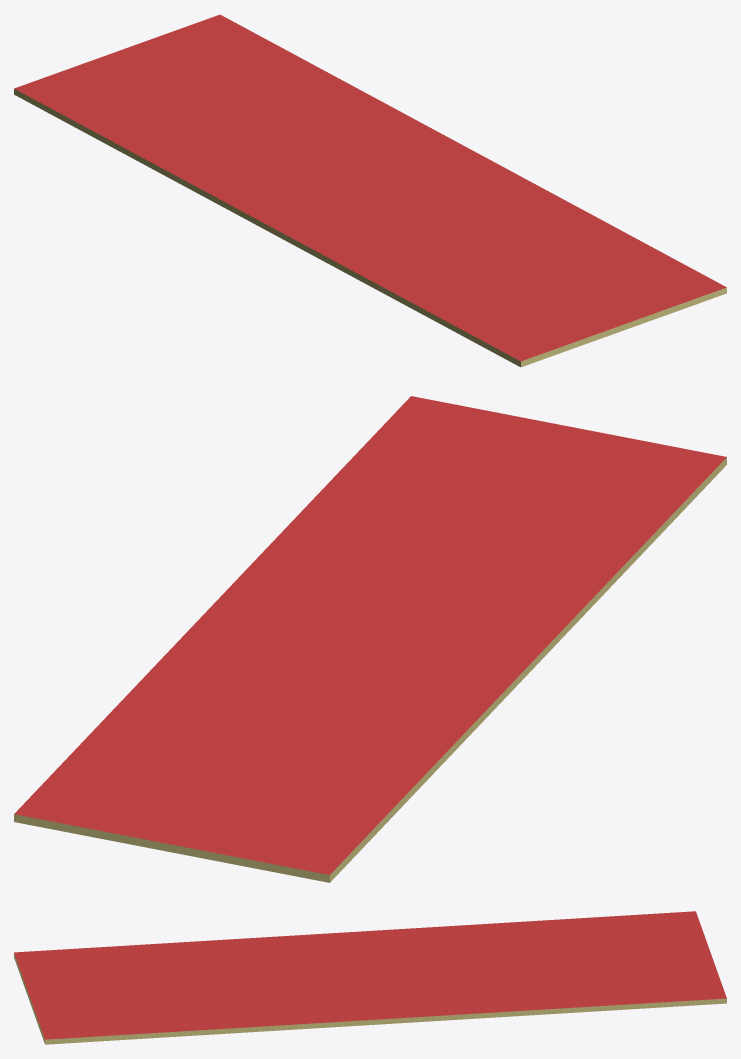
3 views of the same model, one above another, from view 1: azimuth 30°, elevation 25°; view 2: azimuth 150°, elevation 25°; view 3: azimuth 270°, elevation 25° (orthographic). The views are drawn at different scales.
Bounding box in the file's own units: 5.63 × 12.75 × 0.194.
